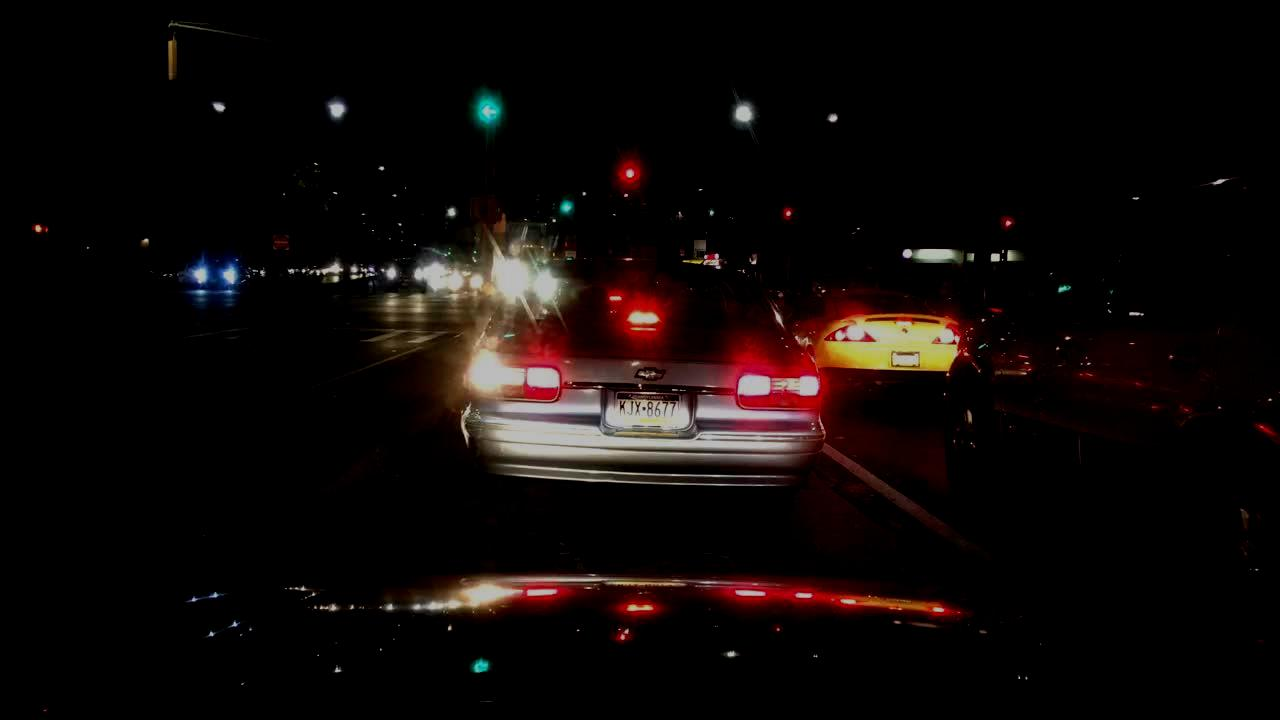chevrolet: (630, 362, 672, 386)
